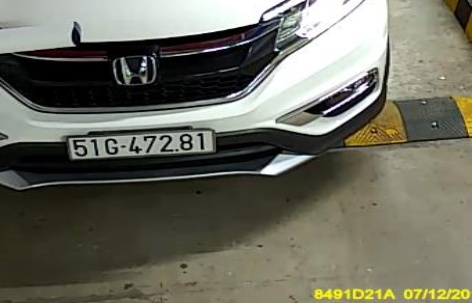plate: (66, 125, 216, 159)
